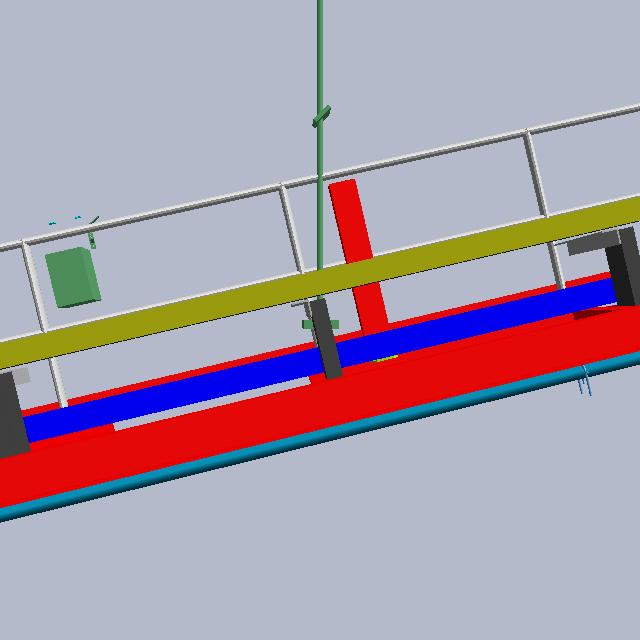Poste: (296, 1, 343, 338)
Soporte: (325, 175, 406, 376)
